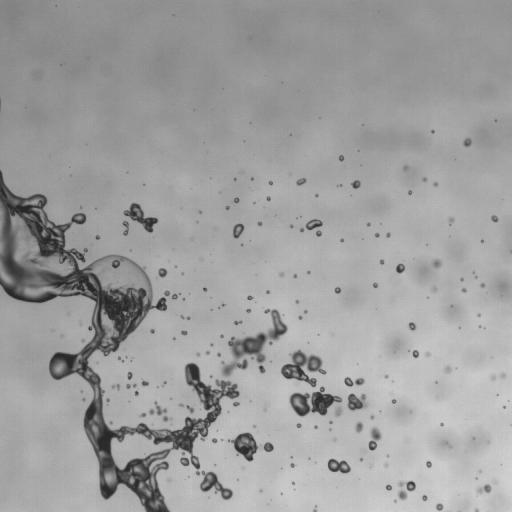droplet: (281, 349, 326, 386), (227, 432, 273, 461), (148, 402, 171, 421), (397, 480, 415, 500), (327, 458, 350, 473), (347, 393, 367, 410), (368, 427, 381, 450), (233, 223, 244, 238), (354, 421, 363, 432), (334, 405, 342, 417), (395, 263, 404, 273), (432, 259, 441, 268), (158, 268, 167, 277), (351, 180, 360, 188), (296, 178, 306, 185), (463, 138, 471, 146), (408, 322, 416, 330), (444, 365, 451, 373), (491, 215, 498, 222), (411, 350, 418, 357), (334, 287, 341, 293), (141, 380, 148, 386), (448, 217, 453, 224), (234, 320, 241, 325), (127, 372, 132, 379), (112, 384, 119, 389), (422, 494, 427, 501), (234, 197, 239, 203), (316, 230, 321, 236), (181, 330, 187, 335), (140, 412, 146, 417), (426, 461, 431, 467), (386, 484, 391, 490), (403, 165, 408, 170), (257, 221, 262, 226), (379, 259, 384, 264), (500, 373, 505, 378), (212, 438, 217, 443), (312, 506, 317, 511), (339, 155, 343, 161), (247, 295, 253, 299), (134, 390, 138, 396), (422, 177, 427, 181), (95, 235, 100, 239), (480, 283, 485, 287), (431, 287, 436, 291), (205, 350, 210, 354), (425, 352, 430, 356), (491, 375, 495, 380), (233, 402, 238, 406), (296, 423, 301, 427), (290, 463, 295, 467), (433, 182, 437, 186), (266, 196, 270, 200), (375, 233, 379, 237), (386, 233, 390, 237), (279, 272, 283, 276), (293, 274, 297, 278), (373, 283, 377, 287), (462, 288, 466, 292), (150, 329, 154, 333), (81, 338, 85, 342), (384, 374, 388, 378), (126, 384, 130, 388), (392, 399, 396, 403), (370, 415, 374, 419), (384, 463, 388, 467), (494, 479, 497, 484), (269, 181, 273, 184), (221, 303, 225, 306), (246, 309, 250, 312), (298, 315, 301, 319), (196, 352, 200, 355), (162, 382, 165, 386), (474, 509, 479, 511), (408, 191, 411, 194), (226, 206, 229, 209), (367, 223, 370, 226), (290, 224, 293, 227), (203, 288, 206, 291), (217, 353, 220, 356), (133, 384, 136, 387), (315, 194, 318, 196), (340, 239, 343, 241), (307, 271, 310, 273), (460, 278, 463, 280), (296, 300, 298, 303), (304, 310, 307, 312), (477, 314, 480, 316), (79, 322, 82, 324), (220, 335, 223, 337), (210, 343, 213, 345), (82, 398, 85, 400), (106, 399, 109, 401), (503, 405, 505, 408), (110, 421, 112, 424), (440, 423, 443, 425), (314, 426, 317, 428), (432, 130, 434, 132), (234, 178, 236, 180), (338, 184, 340, 186), (199, 211, 201, 213), (267, 291, 269, 293), (209, 375, 211, 377), (360, 458, 362, 460), (292, 482, 294, 484)
ligament: (0, 171, 287, 511), (289, 386, 342, 417), (123, 202, 158, 232), (300, 219, 322, 231), (475, 484, 491, 496), (344, 377, 364, 386), (179, 403, 194, 413), (436, 503, 451, 511), (123, 221, 128, 235), (180, 315, 189, 319)
